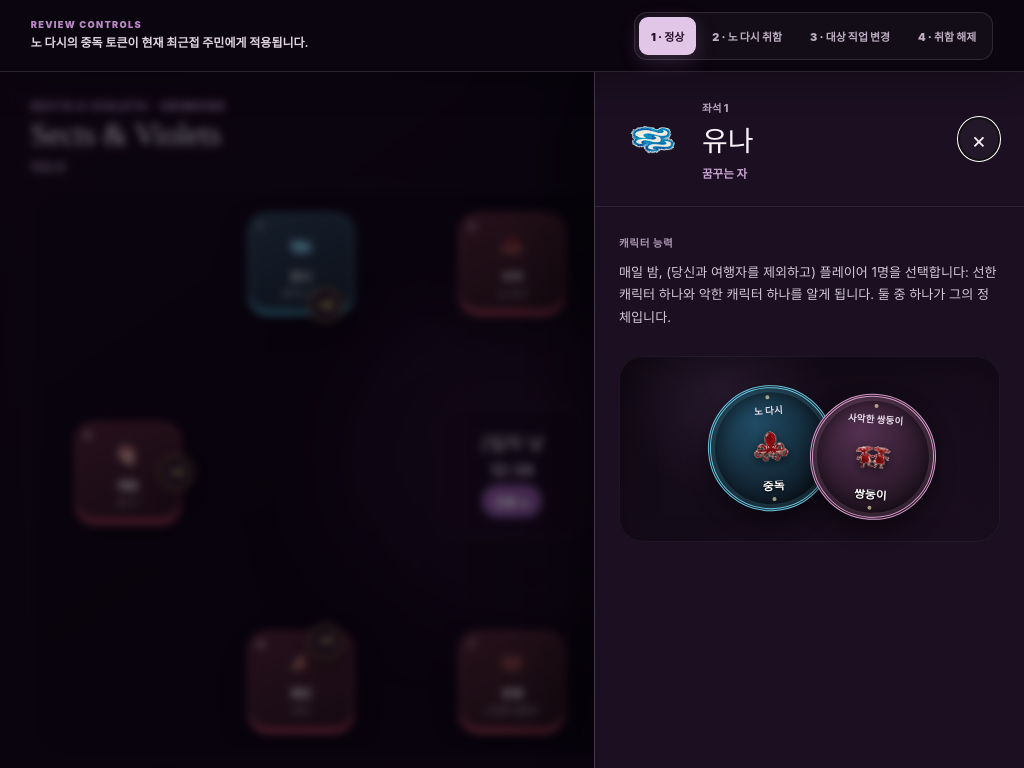
keeps an inactive token in the seat count and marks it only in player details
Click the button "2 · 노 다시 취함" at (747, 36), box x1=700 y1=16 x2=794 y2=54
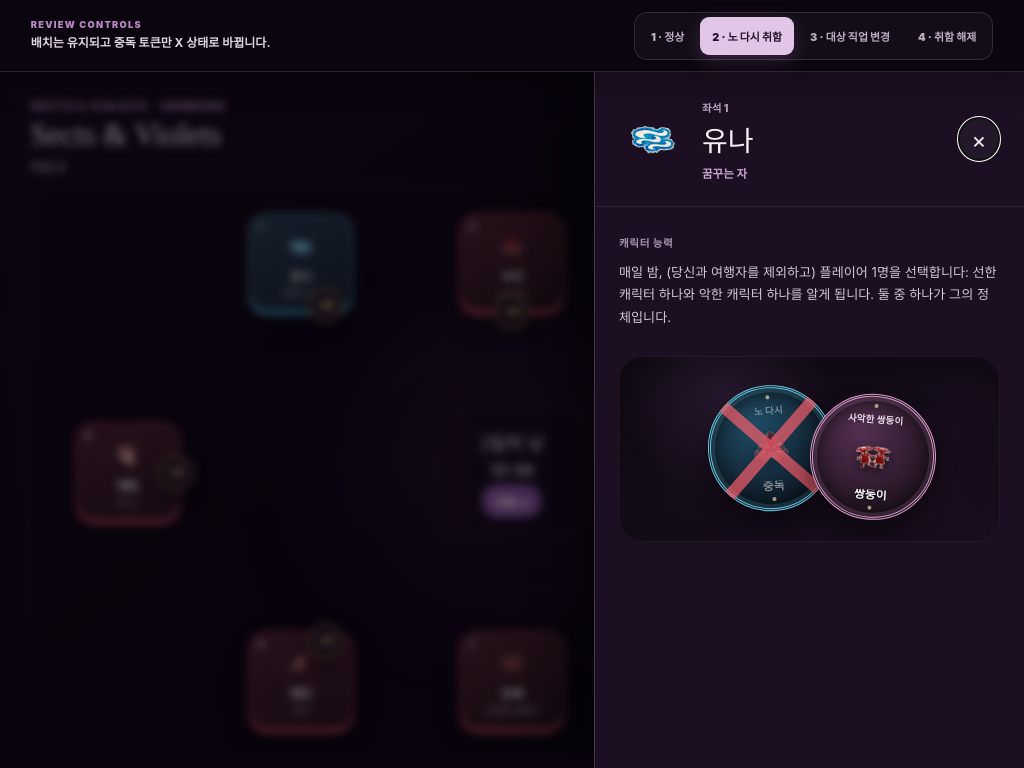
Check: the text "+2" is shown, box x1=308 y1=288 x2=342 y2=322
Check: the icon is shown, box x1=703 y1=381 x2=838 y2=515
